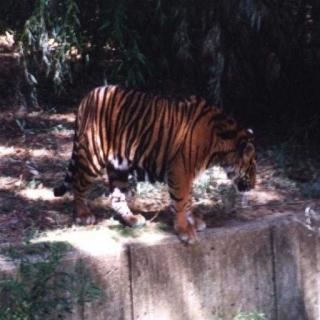Tiger: (50, 81, 260, 246)
